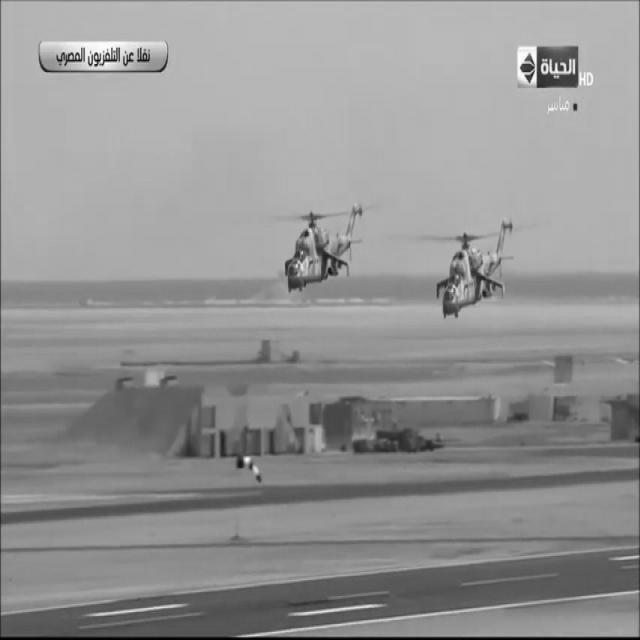helikopter: (422, 217, 526, 332), (271, 196, 369, 300)
